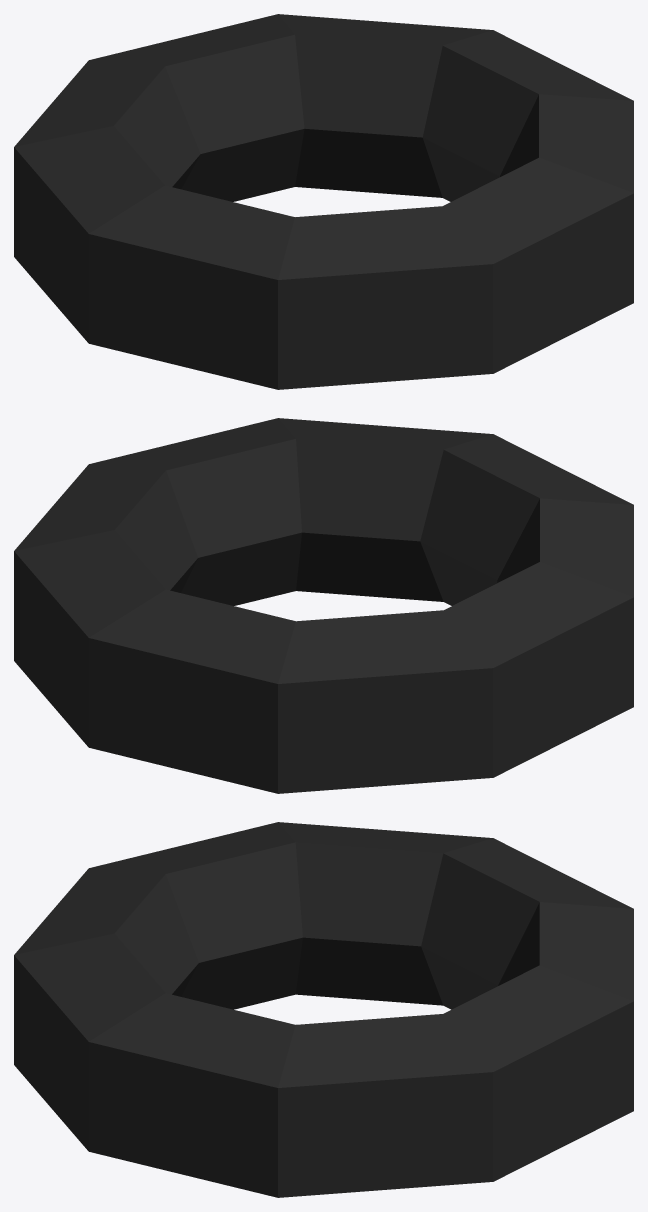
Rendered from tire.glb.
3 renders of one model, top to bottom at view 1: azimuth 30°, elevation 25°; view 2: azimuth 150°, elevation 25°; view 3: azimuth 270°, elevation 25°, orthographic.
Parts seen in each view (by area): view 1: tire; view 2: tire; view 3: tire.
Boxes of the visible parts, box(x1,y1,x2,y2) form: tire: box(14, 14, 633, 389); tire: box(14, 418, 633, 793); tire: box(14, 822, 633, 1197).
Size of the model in its own units: 0.9522 by 0.2542 by 0.9377.
Materials: 1 (1 with a texture image).
